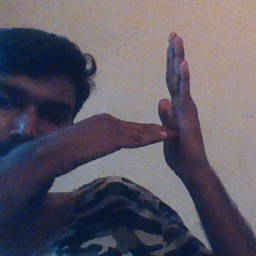Z: (99, 30, 208, 173)
